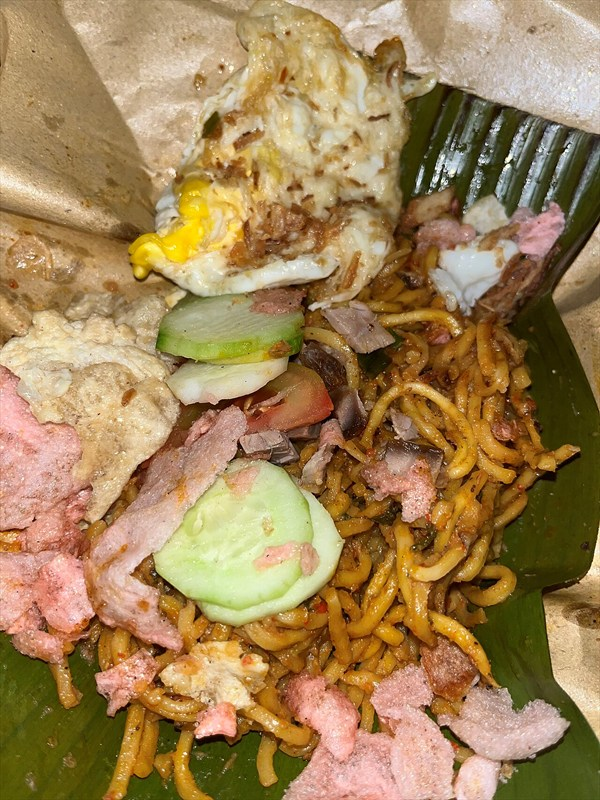Mie Goreng: (114, 125, 546, 755)
